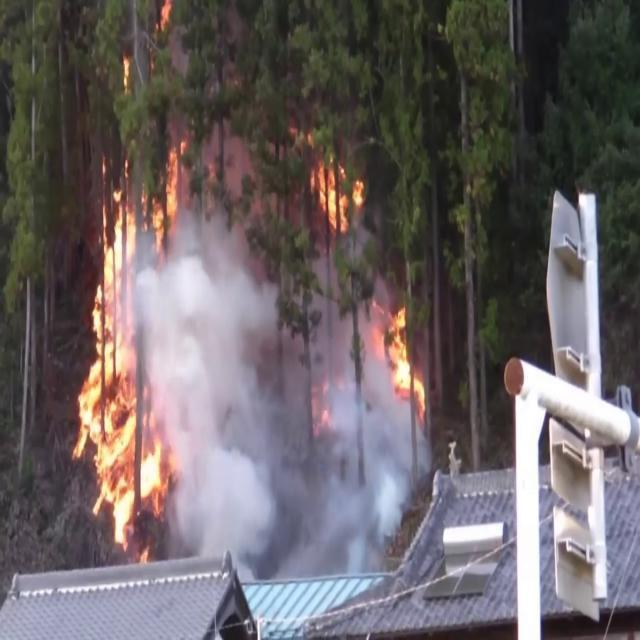Fire: (70, 157, 174, 547), (379, 298, 427, 413), (309, 148, 366, 240)
Smoke: (141, 219, 295, 585), (286, 297, 424, 584)
